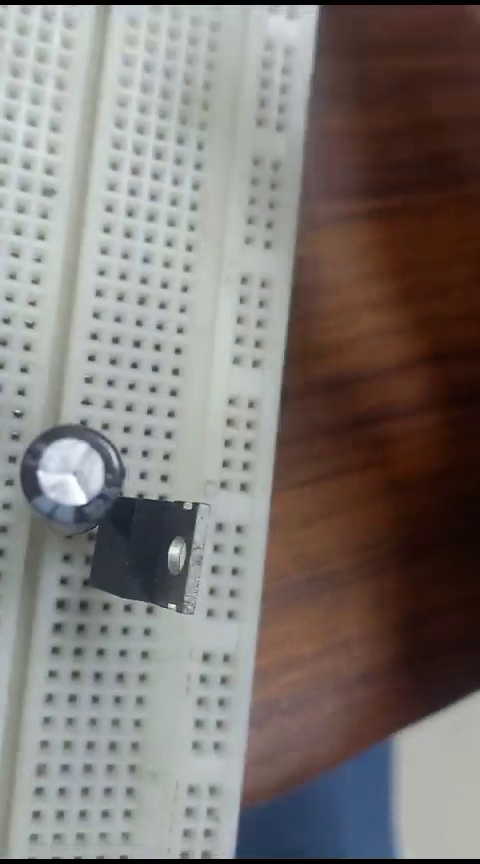capacitor: (19, 420, 127, 529)
voltage regulator: (108, 489, 211, 629)
